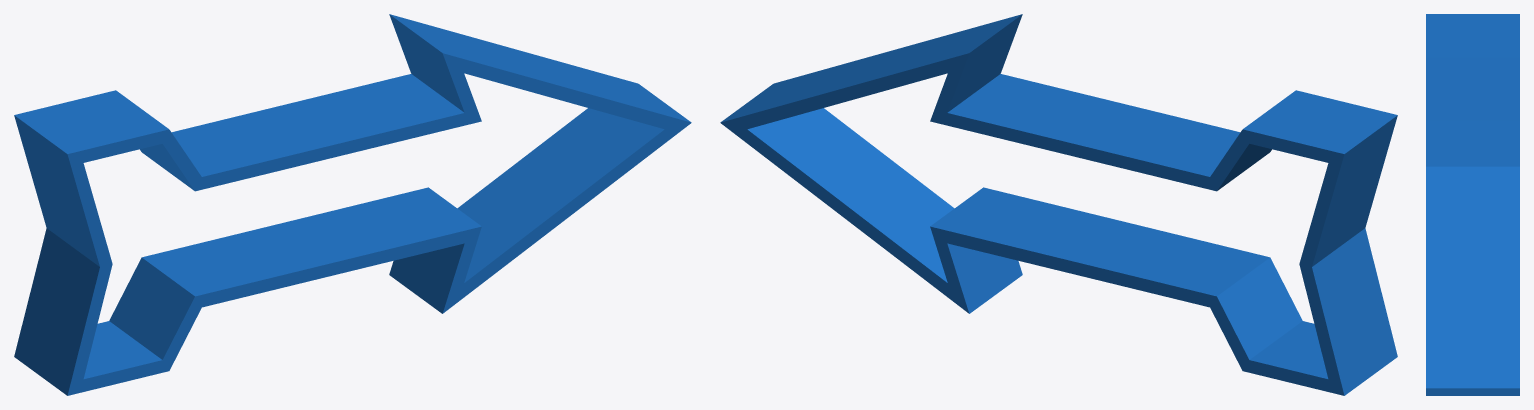
File: Arrow_51.obj
3 views of the same model, side by side, from view 1: azimuth 30°, elevation 25°; view 2: azimuth 150°, elevation 25°; view 3: azimuth 270°, elevation 25° (orthographic). The views are drawn at different scales.
Parts seen in each view (by area): view 1: Arrow_51; view 2: Arrow_51; view 3: Arrow_51.
Boxes of the visible parts, x1,y1,x2,y2 form: Arrow_51: [14, 14, 691, 395]; Arrow_51: [720, 14, 1397, 395]; Arrow_51: [1426, 14, 1519, 395].
Size of the model in its own units: 5.01 by 2 by 0.7423.
